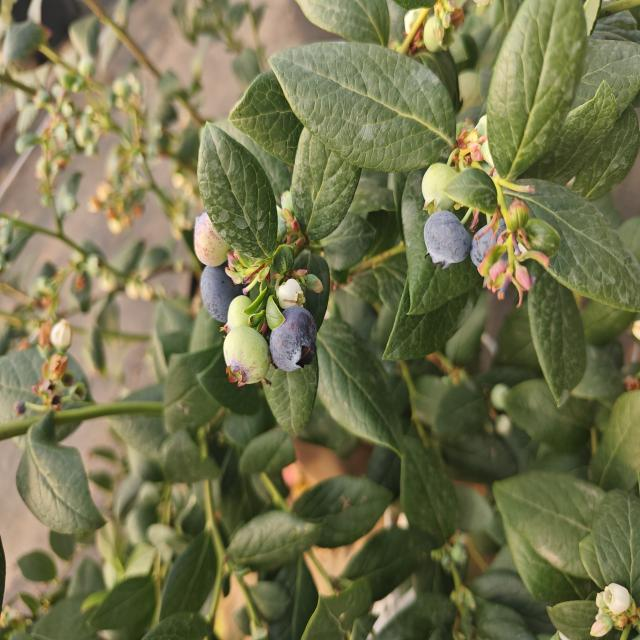ripe: (267, 303, 319, 376), (469, 206, 516, 285), (197, 261, 253, 326), (421, 207, 473, 273)
